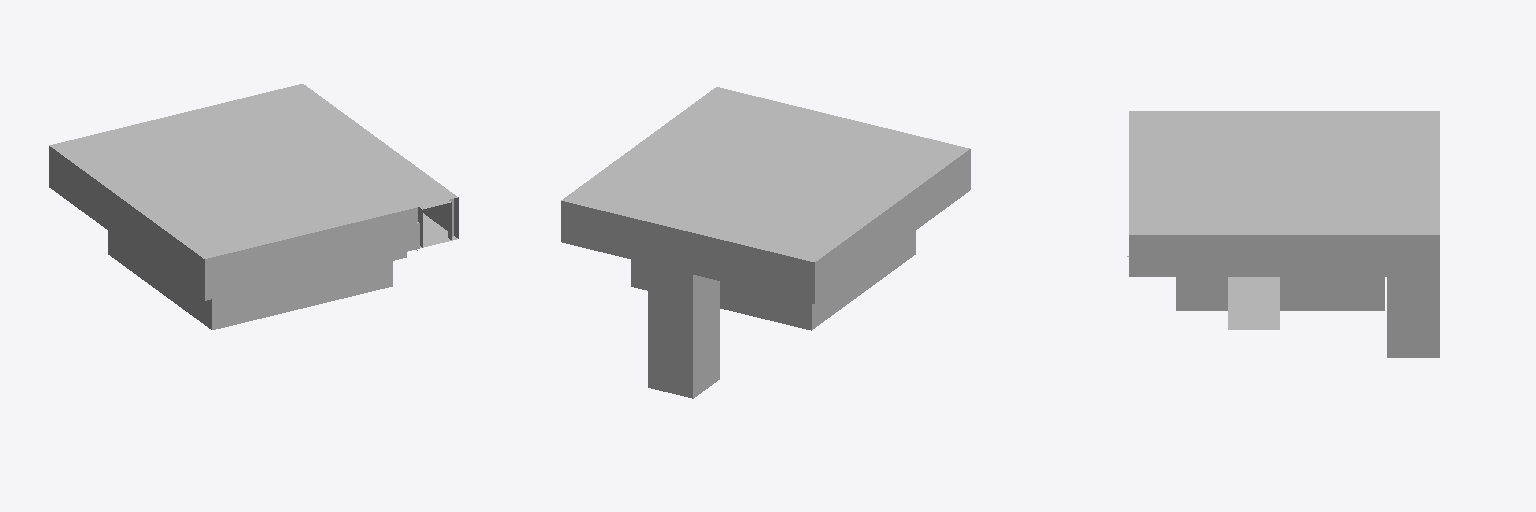
Rendered from stage_01.obj.
The picture shows the model from 3 angles: view 1: azimuth 30°, elevation 25°; view 2: azimuth 150°, elevation 25°; view 3: azimuth 270°, elevation 25°; orthographic projection.
Parts seen in each view (by area): view 1: Plane; view 2: Plane; view 3: Plane.
Part boxes in pixels (left/top/right/bottom): Plane: left=49, top=84, right=458, bottom=329; Plane: left=561, top=87, right=970, bottom=398; Plane: left=1127, top=111, right=1439, bottom=357.
Size of the model in its own units: 14.04 by 8.77 by 15.33.